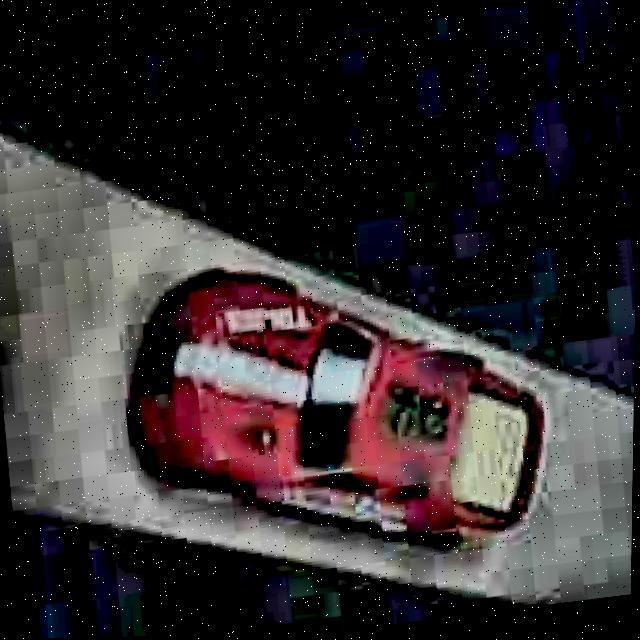car: (104, 226, 566, 596)
